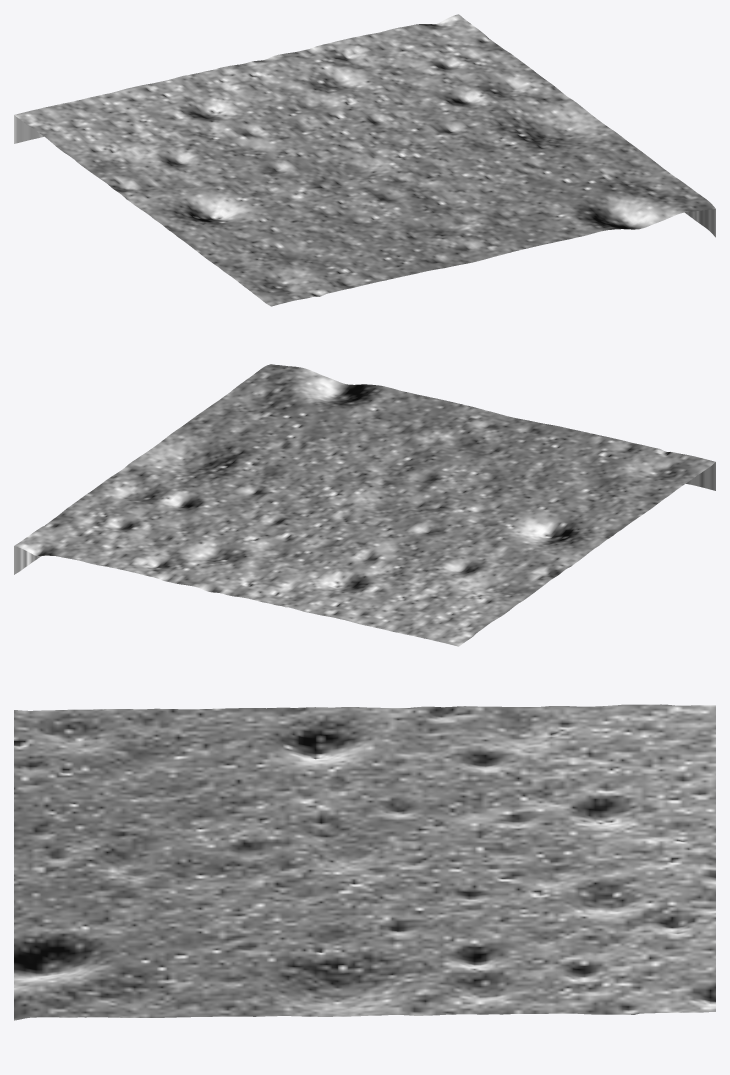
3 renders of one model, top to bottom at view 1: azimuth 30°, elevation 25°; view 2: azimuth 150°, elevation 25°; view 3: azimuth 270°, elevation 25°, orthographic. The views are drawn at different scales.
Size of the model in its own units: 1276 by 125 by 1278.
Materials: 1 (1 with a texture image).
